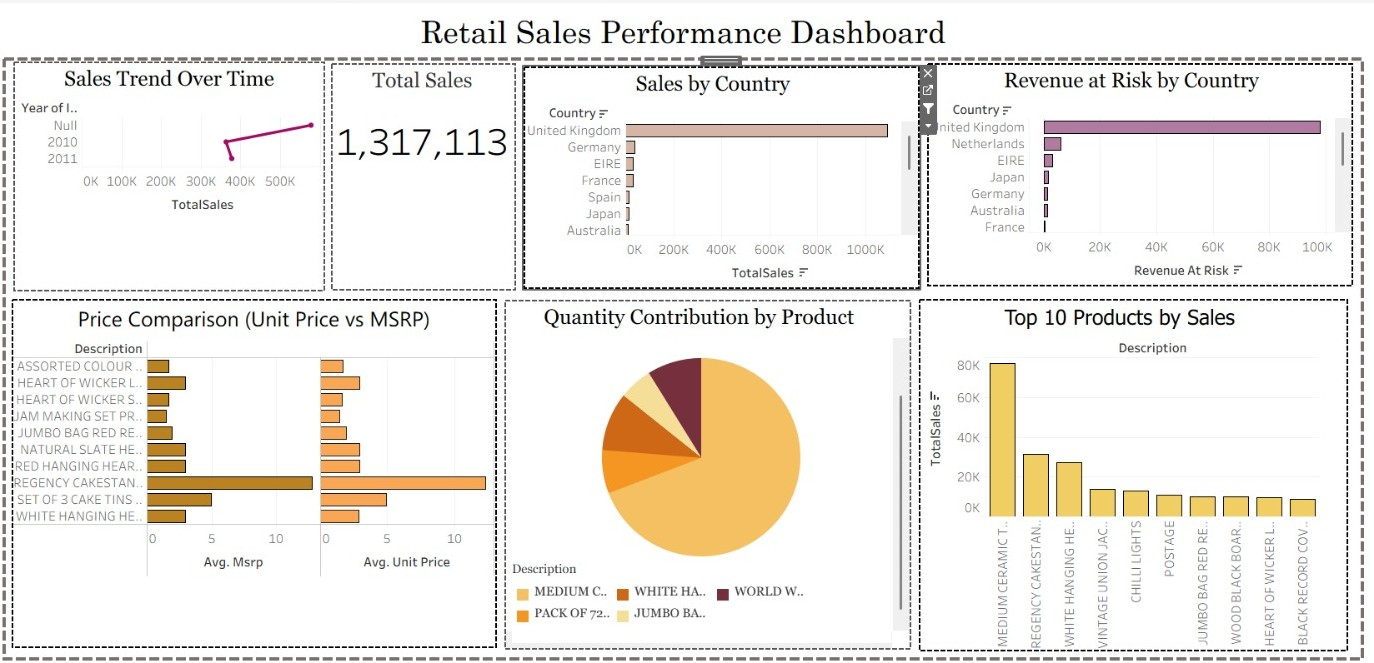

This screenshot's page, from the dashboard's own definition file:
{"tool":"tableau","page":{"name":"Dashboard 1","canvas":[1000,1000],"units":"permille","ordinal":0},"visuals":[{"type":"title","box":[4.8,10,990.3,66.2]},{"type":"worksheet","title":"Sheet 2","mark":"Line","rows":["InvoiceDate"],"cols":["Calculation_2501407264047104"],"box":[15.1,87.4,225.7,344.6]},{"type":"worksheet","title":"Sheet 1","mark":"Text","box":[245,89.9,134,340.8]},{"type":"worksheet","title":"Sheet 6","mark":"Automatic","rows":["Country"],"cols":["Revenue_At_Risk"],"box":[676.5,89.9,308.4,334.6]},{"type":"worksheet","title":"Sheet 3","mark":"Automatic","rows":["Country"],"cols":["Calculation_2501407264047104"],"box":[384.4,94.9,286.7,333.3]},{"type":"worksheet","title":"Sheet 7","mark":"Automatic","rows":["Description"],"cols":["MSRP","UnitPrice"],"box":[13.9,443.2,351.2,523.1]},{"type":"worksheet","title":"Sheet 4","mark":"Automatic","rows":["Calculation_2501407264047104"],"cols":["Description"],"box":[670.5,443.2,310.8,528.1]},{"type":"worksheet","title":"Sheet 5","mark":"Pie","box":[370.6,444.4,294.5,524.3]},{"type":"legend","title":"Sheet 5","param":"[federated.1t4qcmi1mt5ffh0ziq4jx0jypg2f].[none:Description:nk]","box":[376,836.5,274.6,122.4]}]}

Visuals, with their boxes on the dashboard's canvas, which has no fixed pixel size, in thousandths of its width and height (x1, y1, x2, y2). These are canvas units, not pixel positions in the 1374x663 screenshot, which may show the page scaled, cropped or inside an application window:
title: BBox(5, 10, 995, 76)
"Sheet 2" worksheet (Line marks): BBox(15, 87, 241, 432)
"Sheet 1" worksheet (Text marks): BBox(245, 90, 379, 431)
"Sheet 6" worksheet: BBox(676, 90, 985, 424)
"Sheet 3" worksheet: BBox(384, 95, 671, 428)
"Sheet 7" worksheet: BBox(14, 443, 365, 966)
"Sheet 4" worksheet: BBox(670, 443, 981, 971)
"Sheet 5" worksheet (Pie marks): BBox(371, 444, 665, 969)
"Sheet 5" legend: BBox(376, 836, 651, 959)
